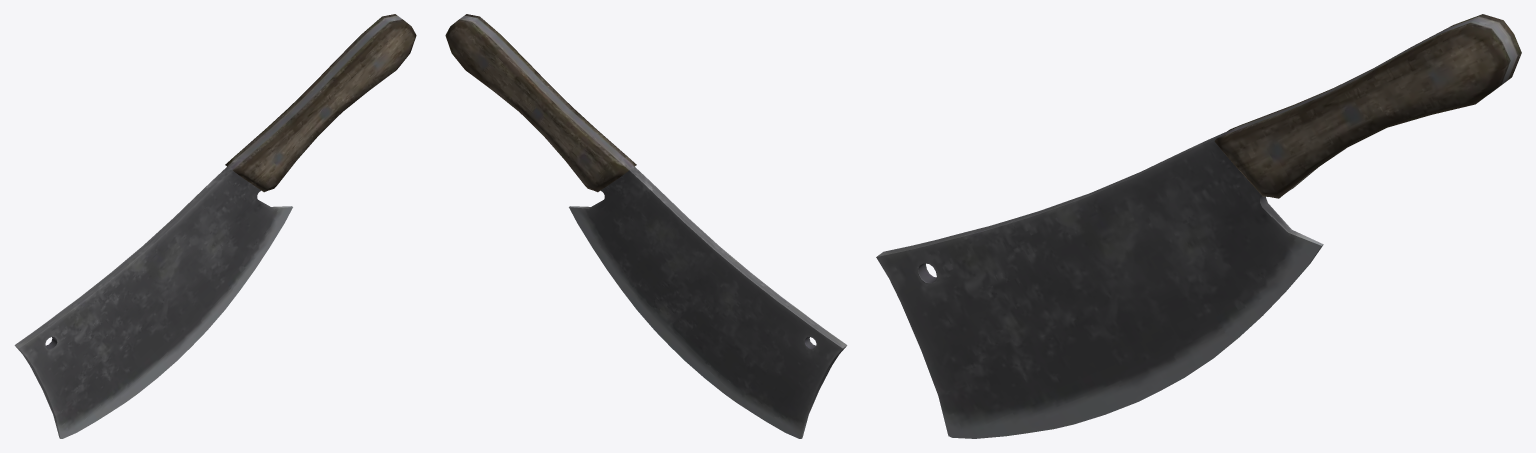
The model's file is x_carnicero_cleaver___butcher_s_best.glb.
The picture shows the model from 3 angles, left to right: view 1: azimuth 30°, elevation 25°; view 2: azimuth 150°, elevation 25°; view 3: azimuth 330°, elevation 25°; orthographic projection. The views are drawn at different scales.
Parts seen in each view (by area): view 1: Cleaver__cleaver01___Default_0; view 2: Cleaver__cleaver01___Default_0; view 3: Cleaver__cleaver01___Default_0.
Part boxes in pixels (<box>): Cleaver__cleaver01___Default_0: <box>14,14,416,438</box>; Cleaver__cleaver01___Default_0: <box>445,14,847,438</box>; Cleaver__cleaver01___Default_0: <box>876,14,1521,438</box>.
Bounding box in the file's own units: 0.32 × 0.2626 × 0.0209.
1 material, 1 textured.
